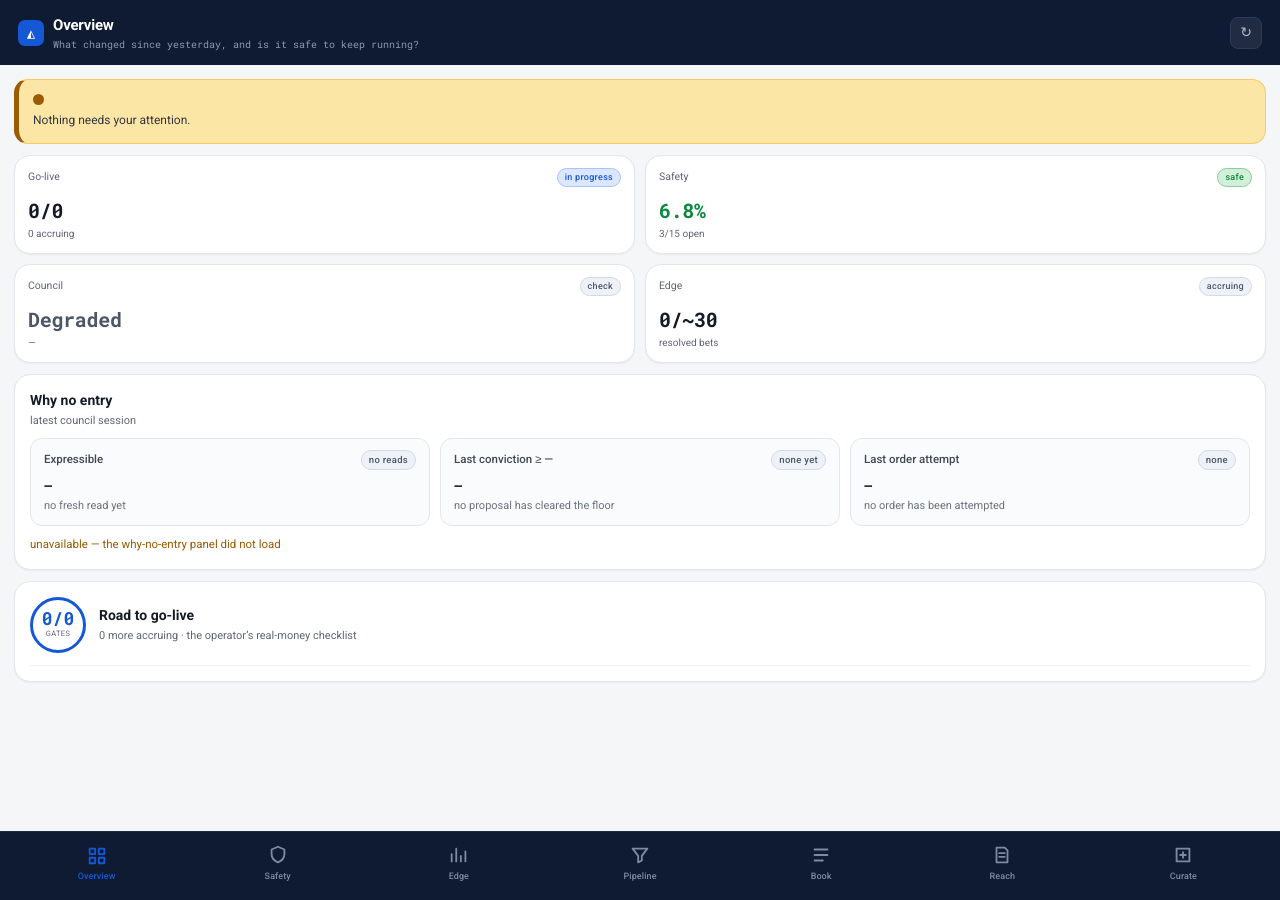
Test case: kill tile — dollar distance to the halt › mobile: the Safety tab shows the same dollar figure, halt % and dry-months line
Click the tab "Safety": [278, 863] box [187, 840, 368, 886]
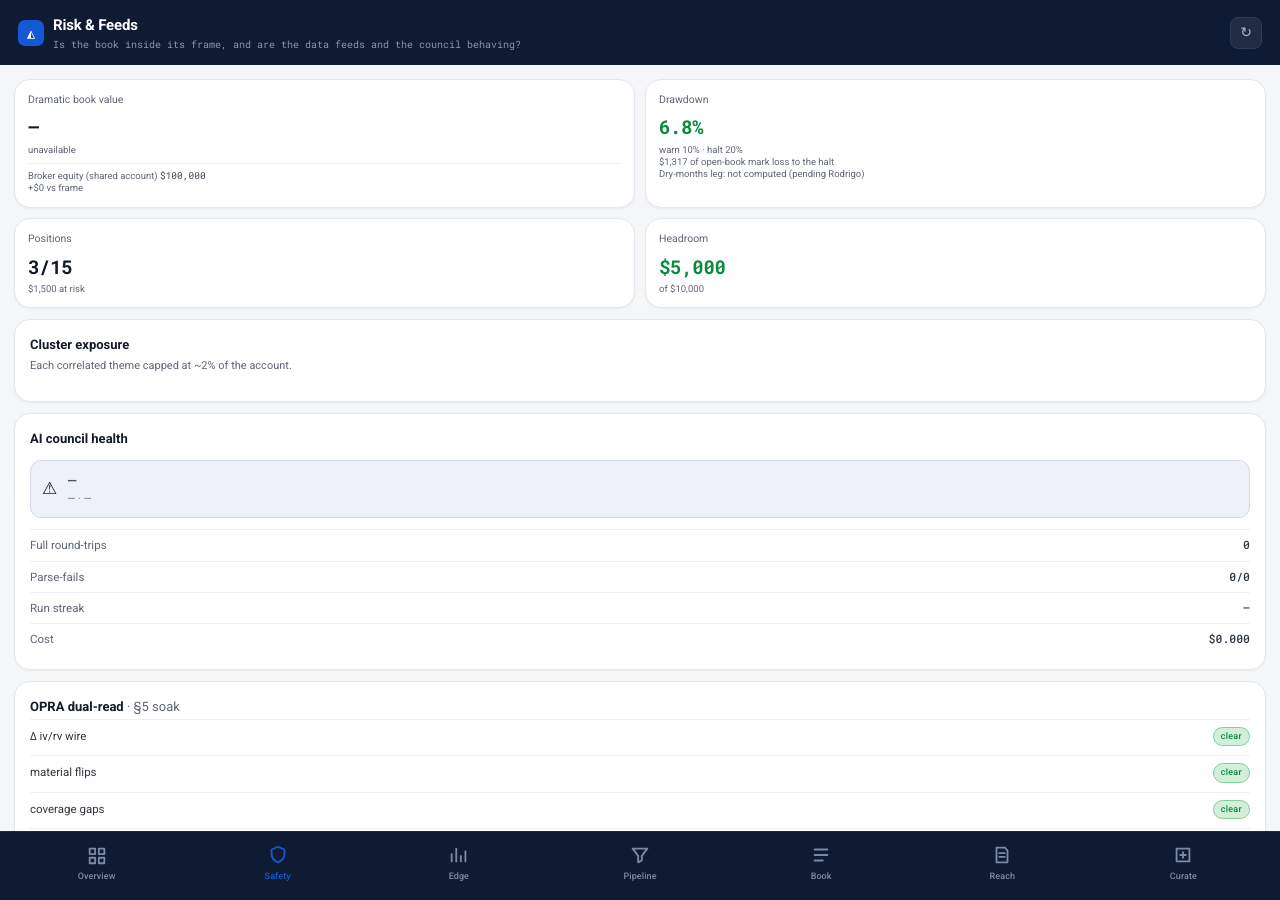
Check: the text "halt 20%" is shown, box [659, 144, 865, 180]
Check: the text "$1,317 of open-book mark loss to the halt" is shown, box [659, 156, 834, 167]
Check: the text "Dry-months leg: not computed (pending Rodrigo)" is shown, box [659, 168, 865, 179]
